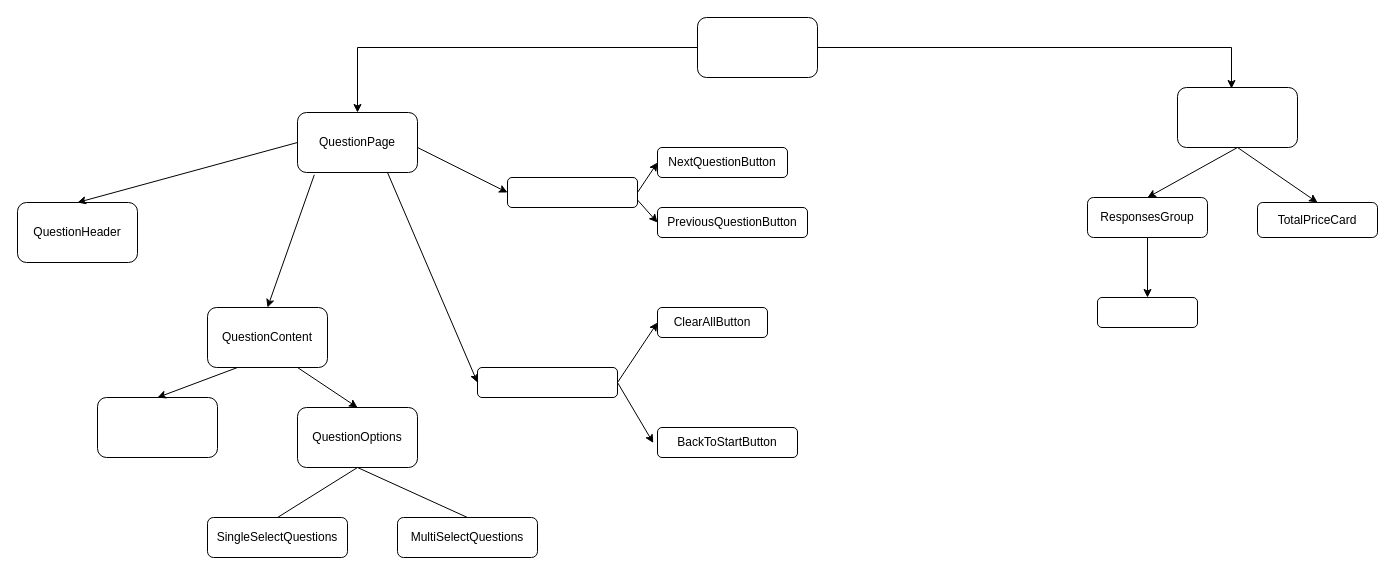
Some shapes in this 1395 by 575 pixel diagram are drawn without their labels. The shapes that lost their labels are listed below. From the top down, each one's centre as x and y in pixels, then its label:
the point at 757,47: Quiz
the point at 1237,117: ResponsesPage
the point at 572,192: MainButtonGroup
the point at 1147,312: ResponsesCard
the point at 547,382: SecondaryButtonGroup
the point at 157,427: QuestionText
